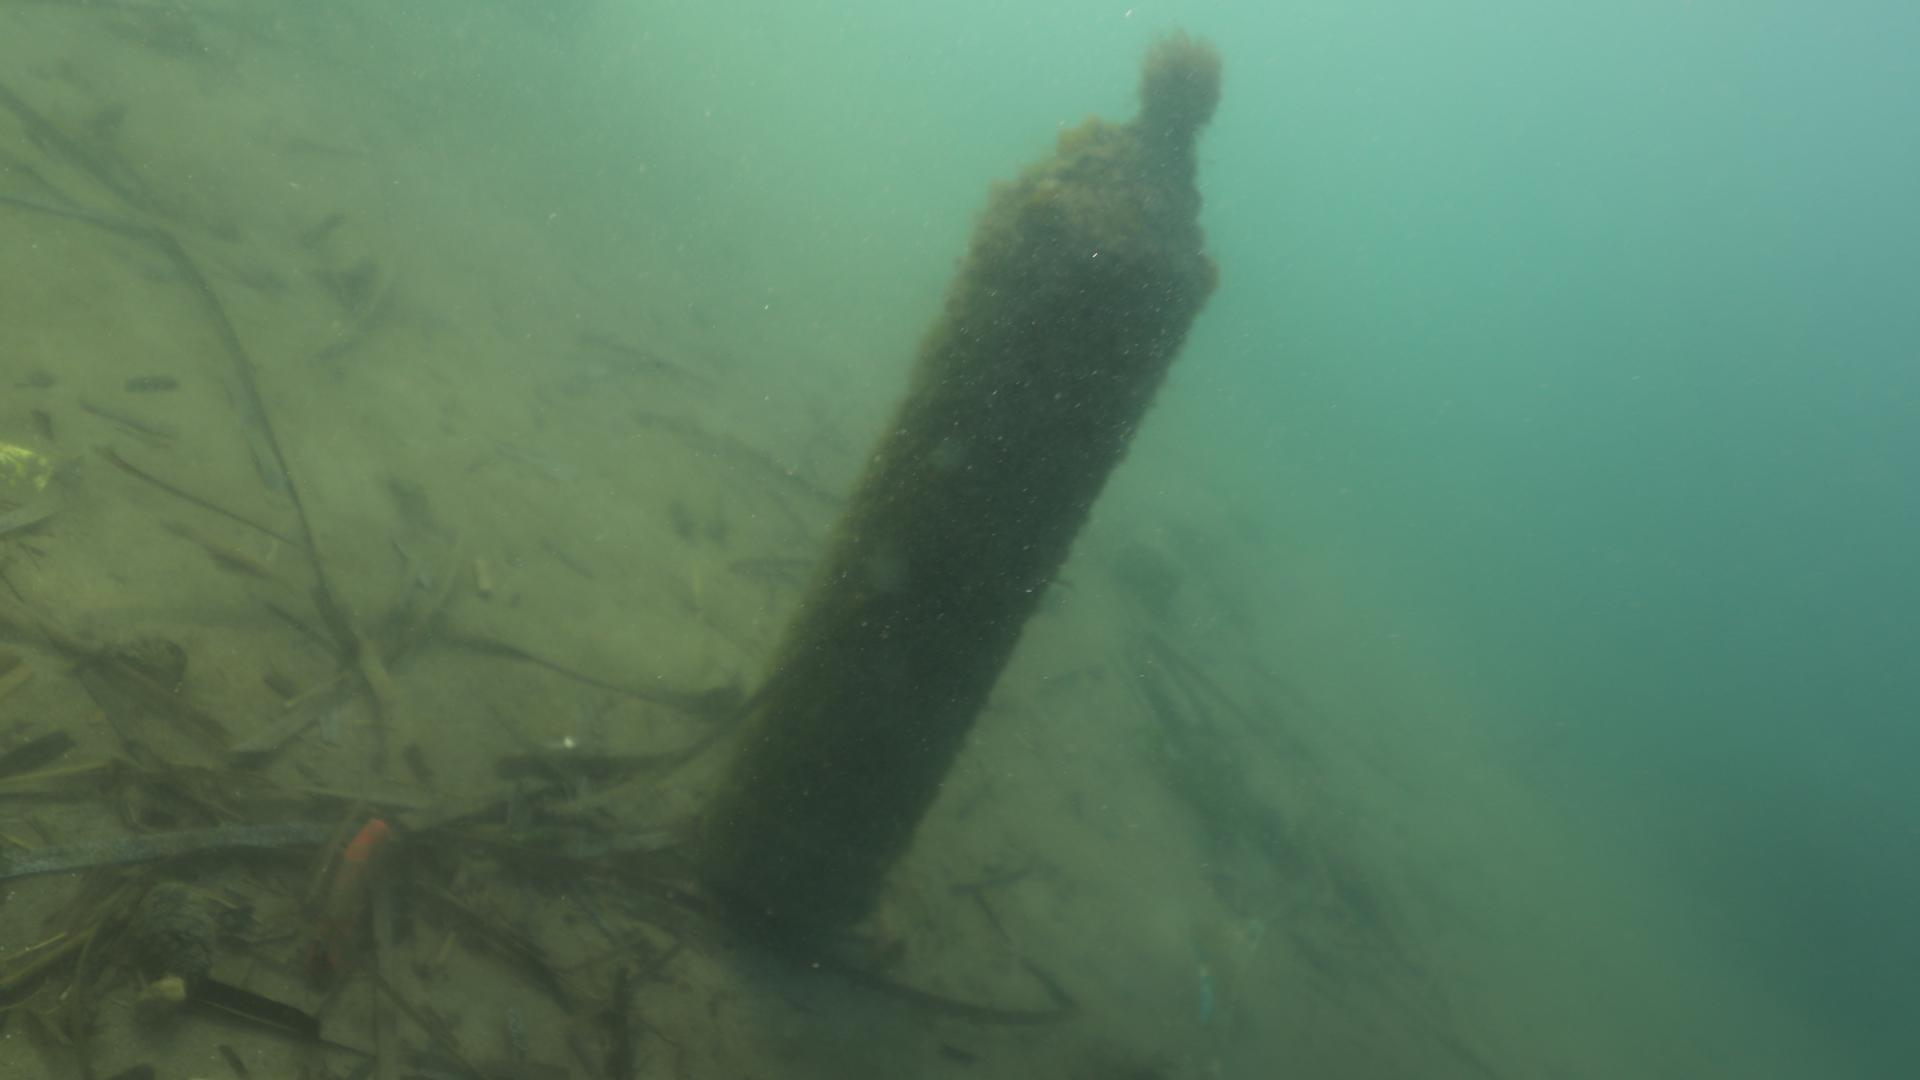eel fish trap: (687, 37, 1225, 961)
